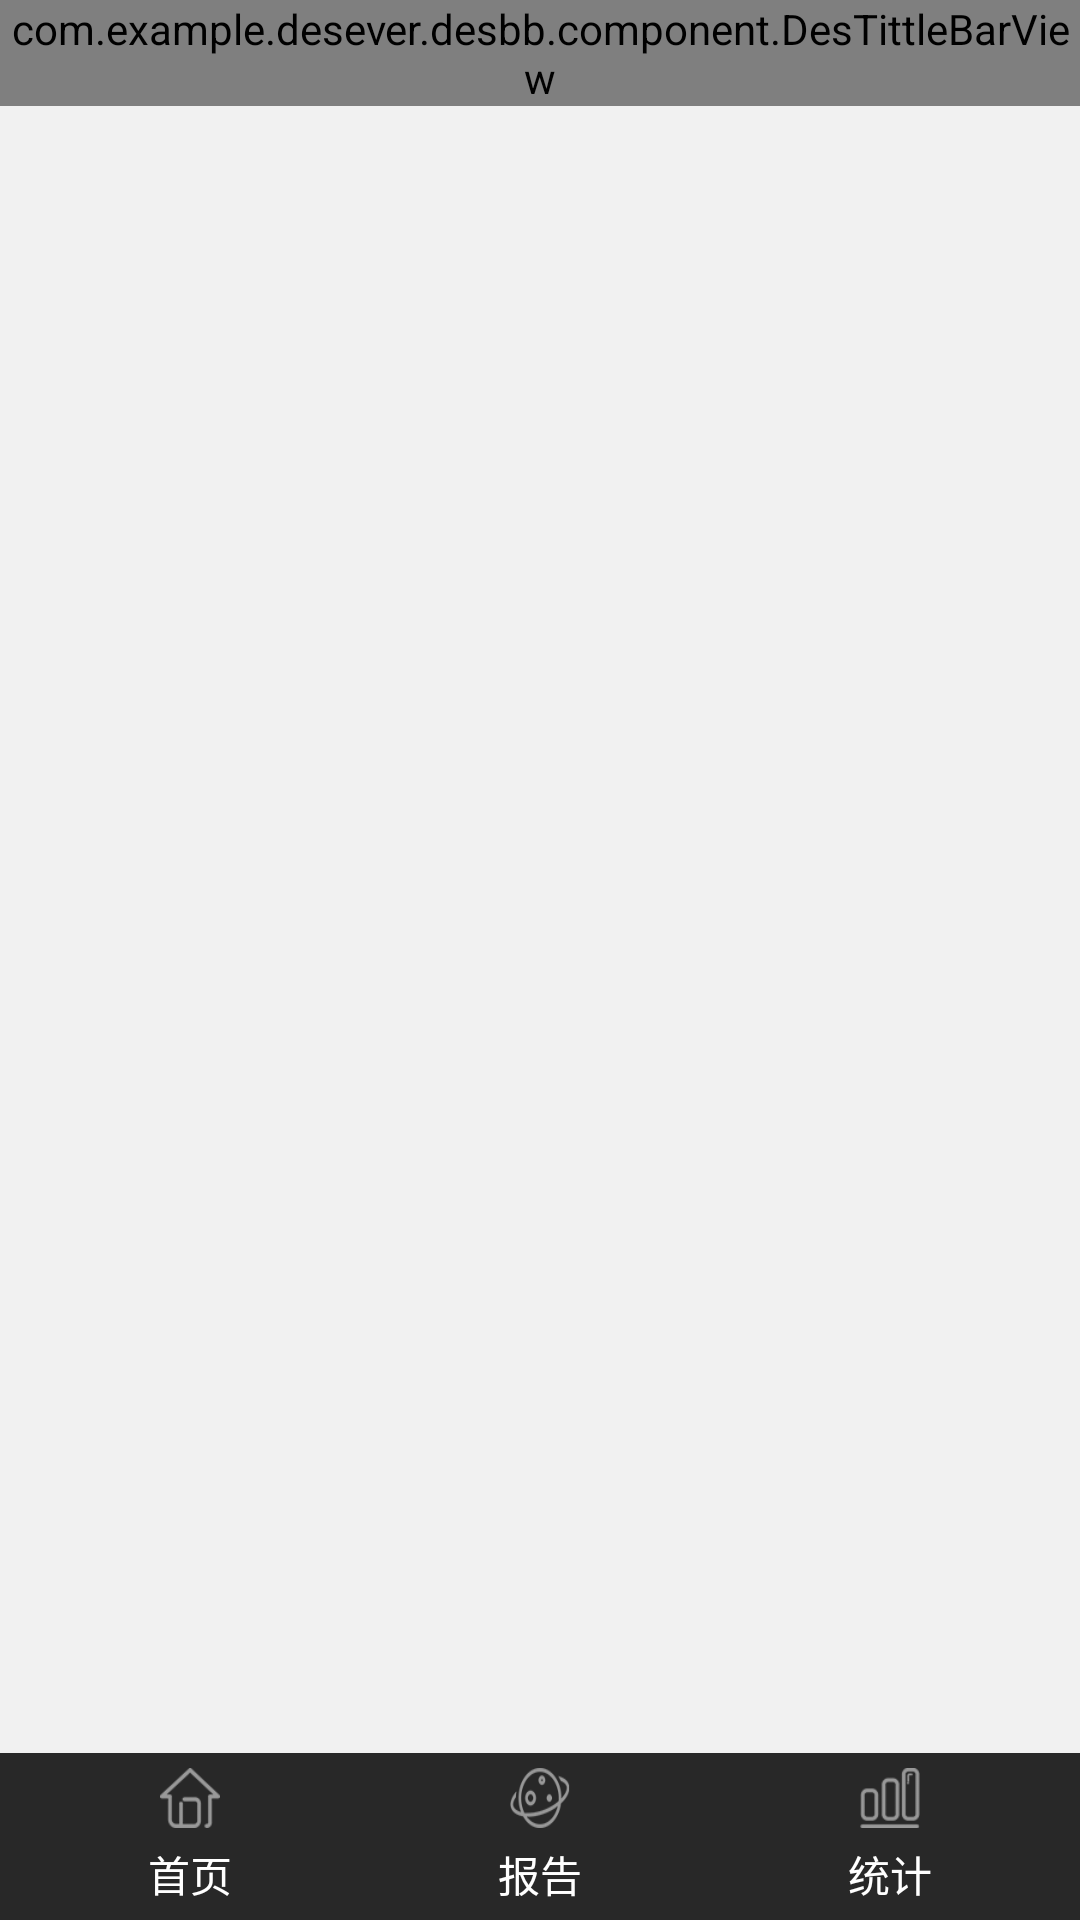

Named icons in this screenshot (1080×1920) and their bounding boxes, bbox=[x1, y1, x2, y2]:
bottomnav chart style: bbox=[860, 1768, 920, 1828]
